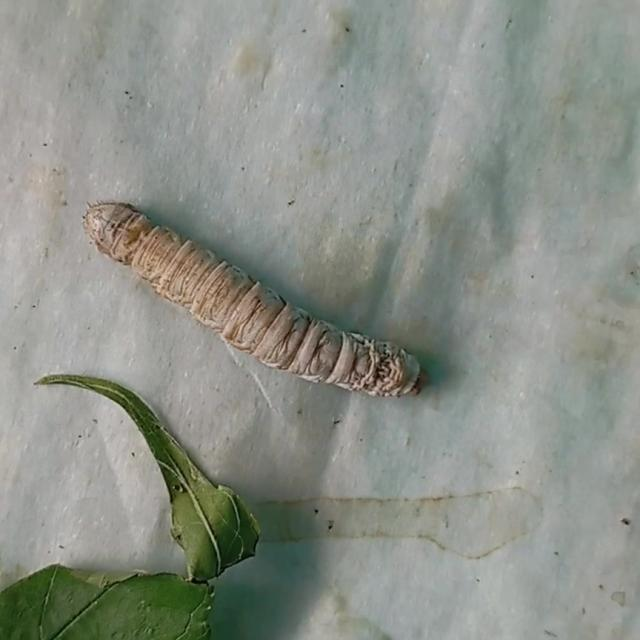Grasserie: (80, 178, 435, 407)
